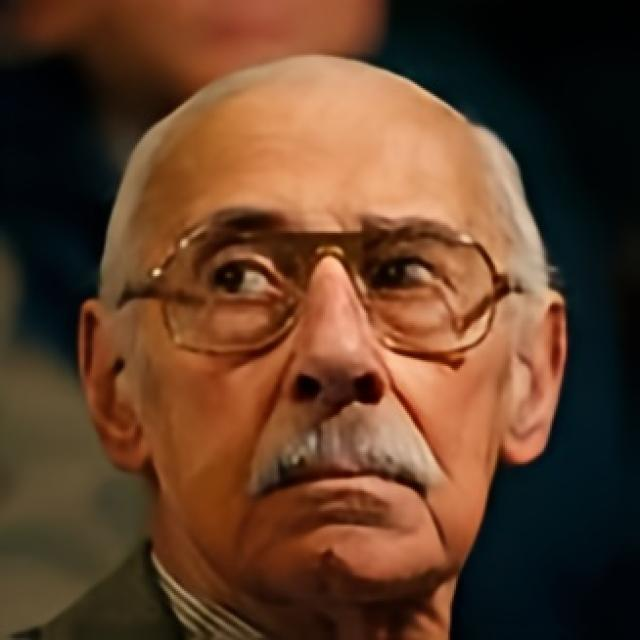fear: (150, 140, 500, 610)
